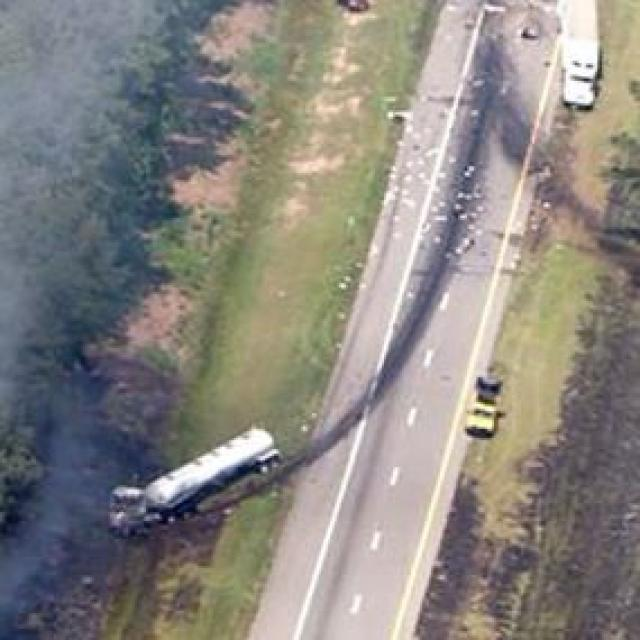traffic_incident: (94, 404, 278, 532)
